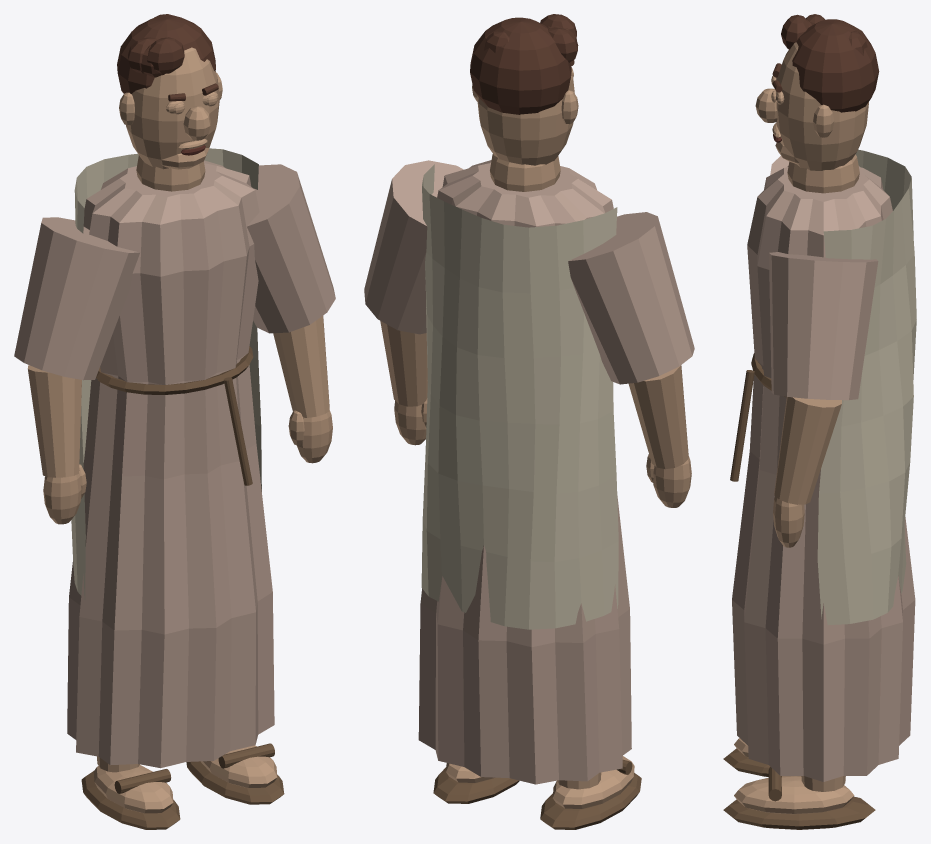
The model's file is listener-young.glb.
3 renders of one model, left to right at view 1: azimuth 30°, elevation 25°; view 2: azimuth 150°, elevation 25°; view 3: azimuth 270°, elevation 25°, orthographic. The views are drawn at different scales.
Parts seen in each view (by area): view 1: listener-young_torso_mesh, listener-young_arm_left_mesh, listener-young_head_mesh, listener-young_arm_right_mesh, listener-young_forearm_left_mesh, listener-young_forearm_right_mesh, listener-young_foot_left_mesh, listener-young_foot_right_mesh; view 2: listener-young_torso_mesh, listener-young_arm_left_mesh, listener-young_head_mesh, listener-young_arm_right_mesh, listener-young_forearm_left_mesh, listener-young_forearm_right_mesh, listener-young_foot_left_mesh, listener-young_foot_right_mesh; view 3: listener-young_torso_mesh, listener-young_arm_right_mesh, listener-young_head_mesh, listener-young_forearm_right_mesh, listener-young_foot_right_mesh, listener-young_foot_left_mesh, listener-young_leg_right_mesh.
Boxes of the visible parts, x1=… form: listener-young_torso_mesh: x1=67, y1=148, x2=274, y2=768; listener-young_arm_left_mesh: x1=14, y1=217, x2=139, y2=380; listener-young_head_mesh: x1=117, y1=14, x2=222, y2=169; listener-young_arm_right_mesh: x1=247, y1=164, x2=335, y2=333; listener-young_forearm_left_mesh: x1=27, y1=365, x2=86, y2=524; listener-young_forearm_right_mesh: x1=273, y1=315, x2=332, y2=463; listener-young_foot_left_mesh: x1=81, y1=765, x2=180, y2=829; listener-young_foot_right_mesh: x1=186, y1=743, x2=284, y2=804; listener-young_torso_mesh: x1=418, y1=154, x2=631, y2=784; listener-young_arm_left_mesh: x1=568, y1=212, x2=694, y2=384; listener-young_head_mesh: x1=470, y1=14, x2=578, y2=165; listener-young_arm_right_mesh: x1=364, y1=160, x2=463, y2=334; listener-young_forearm_left_mesh: x1=628, y1=365, x2=691, y2=507; listener-young_forearm_right_mesh: x1=380, y1=321, x2=427, y2=445; listener-young_foot_left_mesh: x1=540, y1=756, x2=641, y2=829; listener-young_foot_right_mesh: x1=433, y1=763, x2=519, y2=803; listener-young_torso_mesh: x1=730, y1=149, x2=916, y2=781; listener-young_arm_right_mesh: x1=769, y1=252, x2=878, y2=400; listener-young_head_mesh: x1=755, y1=14, x2=879, y2=170; listener-young_forearm_right_mesh: x1=773, y1=397, x2=841, y2=547; listener-young_foot_right_mesh: x1=723, y1=767, x2=875, y2=829; listener-young_foot_left_mesh: x1=723, y1=738, x2=770, y2=776; listener-young_leg_right_mesh: x1=801, y1=776, x2=845, y2=791.
Bounding box in the file's own units: 0.745 × 1.76 × 0.4009.
